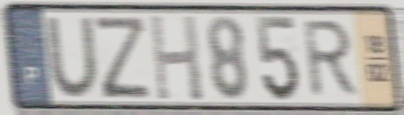5: (253, 13, 302, 105)
8: (205, 13, 251, 103)
H: (147, 11, 206, 104)
R: (302, 17, 361, 100)
U: (43, 14, 103, 101)
Z: (92, 13, 153, 102)
